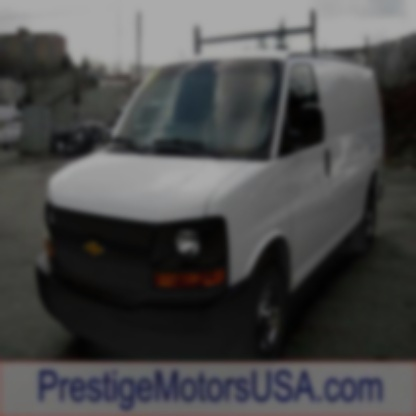Vehicle: (35, 49, 384, 364)
